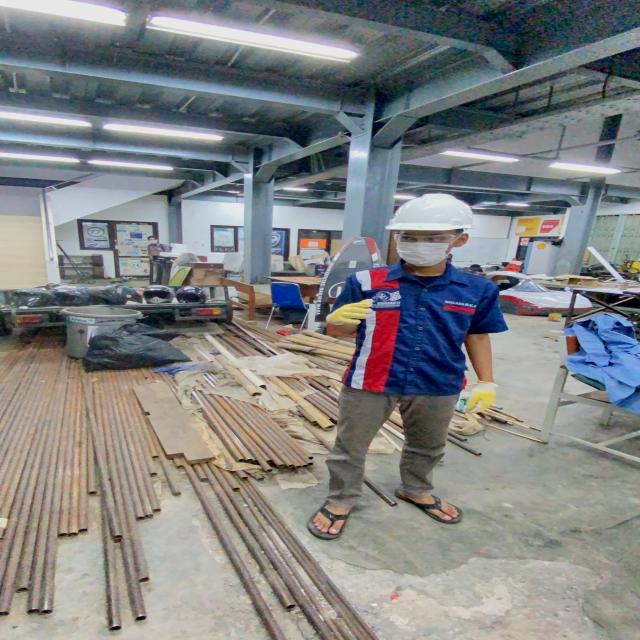face_mask: (388, 228, 458, 268)
glasses: (386, 230, 468, 247)
hand_glove: (324, 298, 378, 327), (462, 380, 502, 417)
head_helmet: (382, 192, 478, 234)
person: (308, 193, 506, 539)
